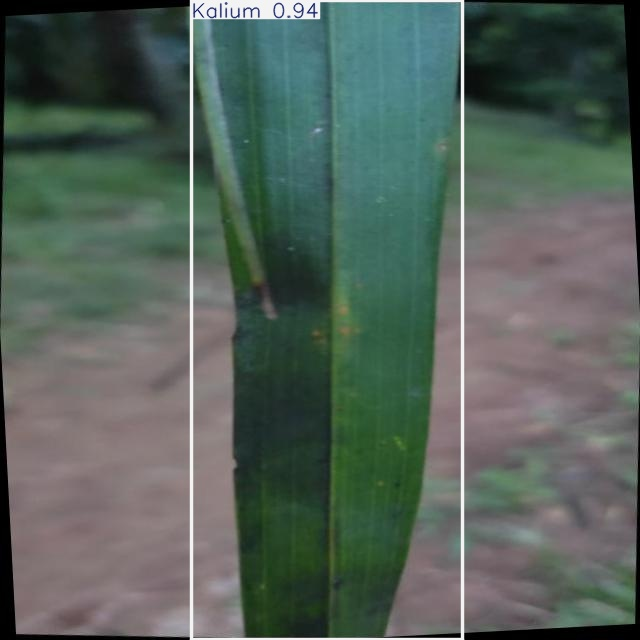Kalium: (191, 0, 462, 639)
